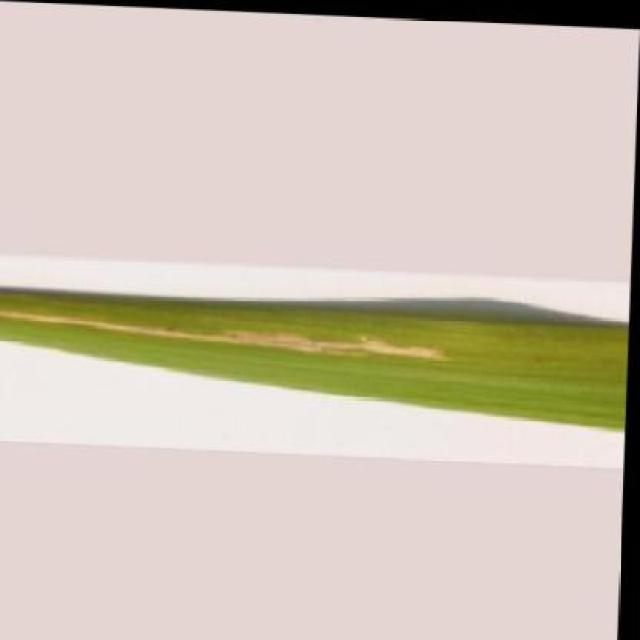Brown_Spot: (0, 283, 632, 431)
